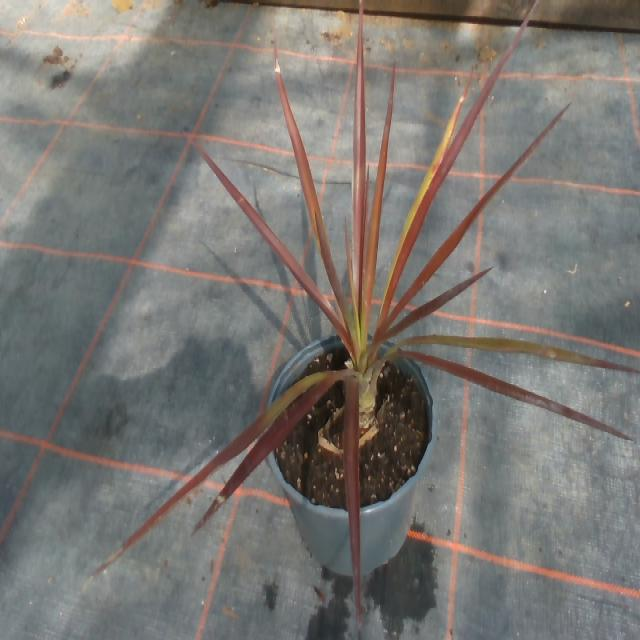Yucca-aloifolia: (380, 0, 537, 321), (92, 373, 323, 576), (382, 105, 567, 336), (198, 147, 349, 339), (193, 379, 337, 529), (390, 352, 632, 440), (391, 85, 468, 269), (274, 35, 326, 265), (392, 335, 639, 372), (383, 268, 491, 337), (366, 67, 394, 324), (316, 209, 355, 335), (343, 379, 361, 639), (352, 0, 366, 269), (345, 220, 356, 332), (362, 168, 369, 276)
